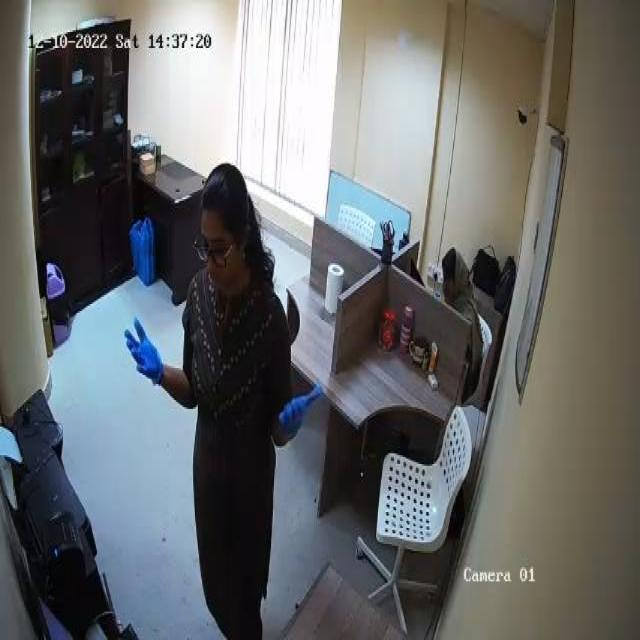gloved_hand: (124, 318, 164, 391), (278, 384, 323, 439)
